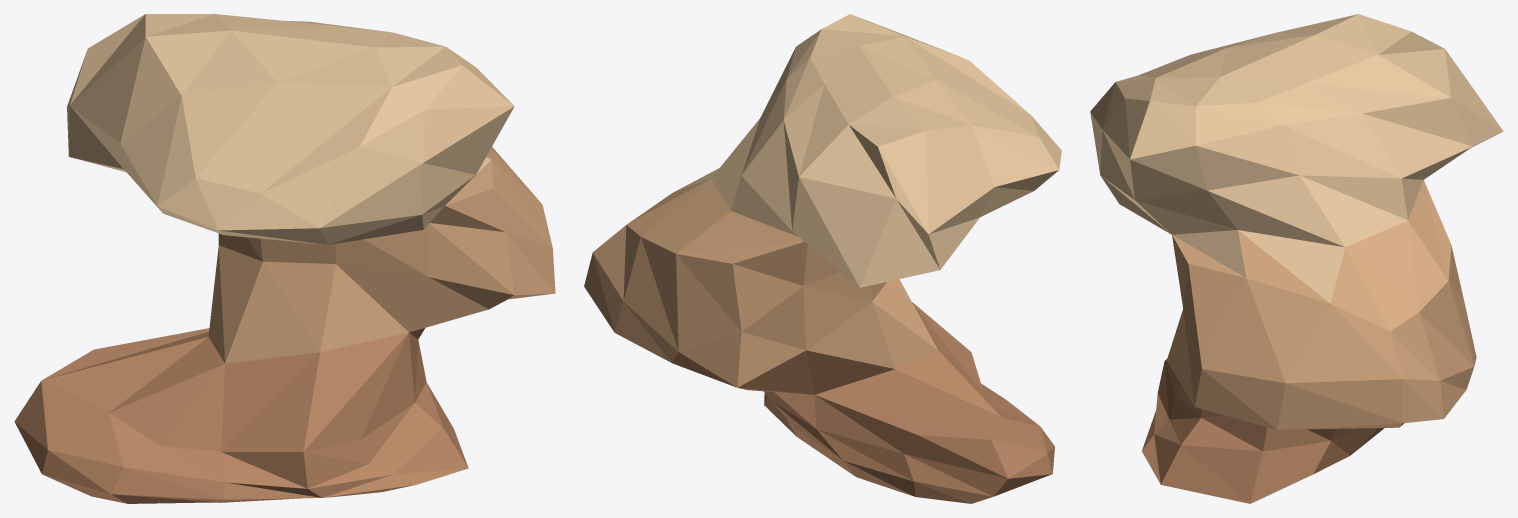
File: canyon-0-4.glb
3 renders of one model, left to right at view 1: azimuth 30°, elevation 25°; view 2: azimuth 150°, elevation 25°; view 3: azimuth 270°, elevation 25°, orthographic. The views are drawn at different scales.
Visible parts, largest first — view 1: canyon-0-4; view 2: canyon-0-4; view 3: canyon-0-4.
Part boxes in pixels (box(x1,y1,x2,y2)): canyon-0-4: box(14, 14, 555, 503); canyon-0-4: box(584, 14, 1061, 503); canyon-0-4: box(1090, 14, 1503, 503).
Size of the model in its own units: 31.58 by 26 by 24.25.
